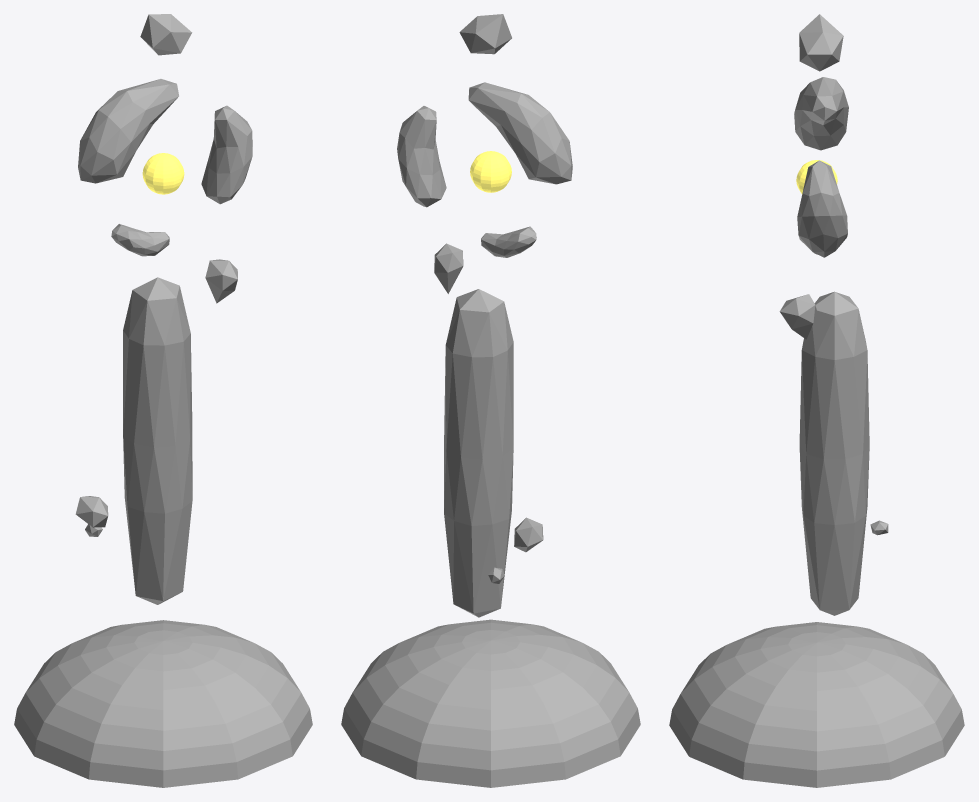
File: lvl1S.fbx
3 views of the same model, side by side, from view 1: azimuth 30°, elevation 25°; view 2: azimuth 150°, elevation 25°; view 3: azimuth 270°, elevation 25° (orthographic).
Visible parts, largest first — view 1: sniper1; view 2: sniper1; view 3: sniper1.
Part boxes in pixels (x1=…): sniper1: x1=14, y1=14, x2=312, y2=787; sniper1: x1=341, y1=14, x2=640, y2=787; sniper1: x1=669, y1=14, x2=964, y2=787.
Bounding box in the file's own units: 288 × 758 × 288.
